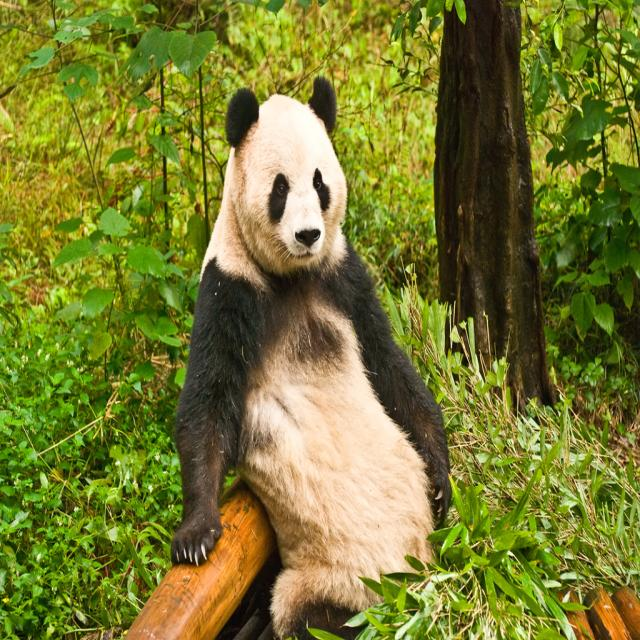panda: (173, 69, 451, 639)
